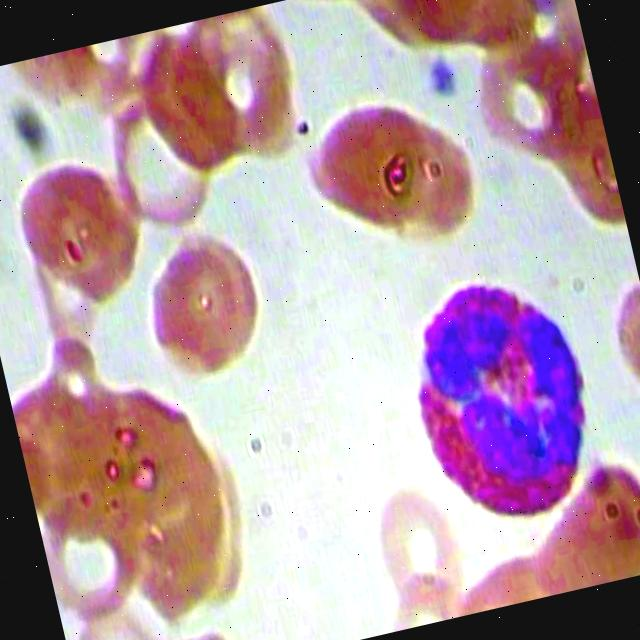Platelets: (419, 48, 468, 106)
RBC: (156, 0, 325, 174), (296, 80, 448, 252), (348, 104, 500, 276), (1, 147, 152, 320), (96, 61, 234, 237), (29, 457, 162, 639), (458, 18, 598, 188), (5, 354, 139, 529), (344, 466, 478, 634), (127, 220, 260, 388), (91, 366, 224, 534), (509, 445, 640, 598), (174, 212, 274, 372), (540, 85, 628, 245), (62, 28, 180, 120), (0, 42, 117, 134), (593, 266, 640, 408), (387, 0, 514, 52)
WBC: (374, 247, 624, 546)
